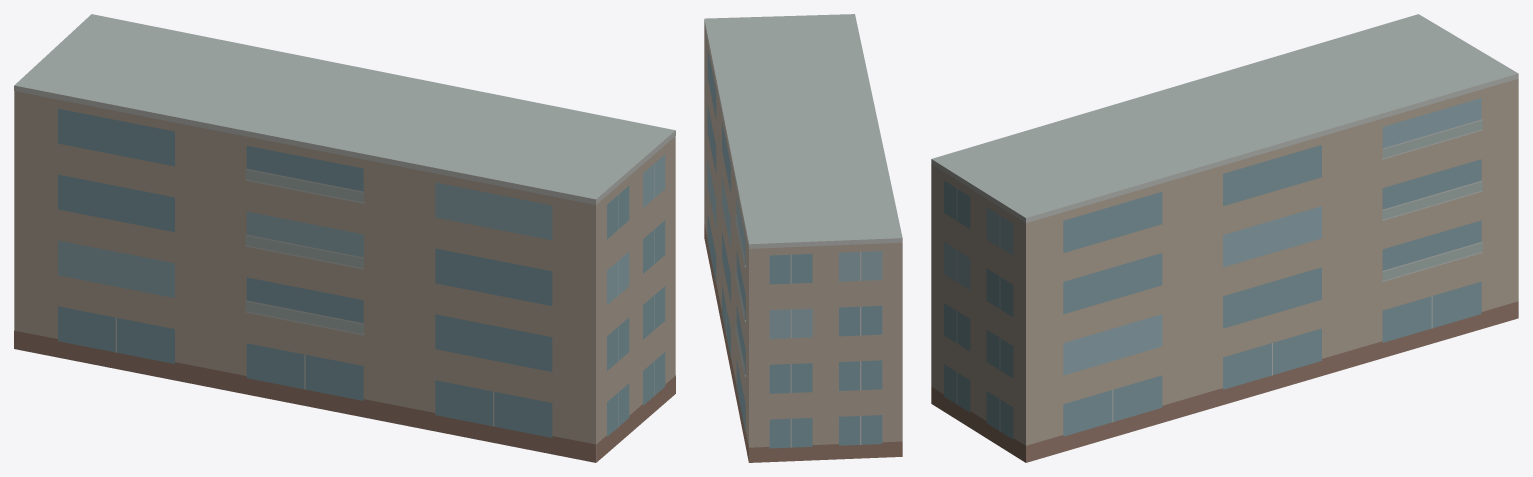
The model's file is survey-upis-32807723.glb.
3 views of the same model, side by side, from view 1: azimuth 30°, elevation 25°; view 2: azimuth 150°, elevation 25°; view 3: azimuth 270°, elevation 25° (orthographic). The views are drawn at different scales.
Visible parts, largest first — view 1: survey-upis-32807723.tmp; view 2: survey-upis-32807723.tmp; view 3: survey-upis-32807723.tmp.
Part boxes in pixels (x1,y1,x2,y2): survey-upis-32807723.tmp: (14, 14, 675, 462); survey-upis-32807723.tmp: (704, 14, 902, 462); survey-upis-32807723.tmp: (931, 14, 1518, 462).
Size of the model in its own units: 20.76 by 11.6 by 25.24.
